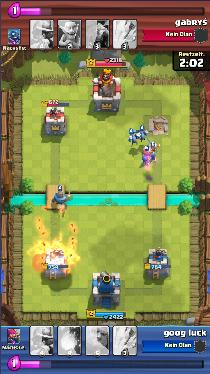ally_knight: (50, 191, 70, 205)
ally_minion: (137, 128, 148, 140), (128, 134, 139, 144)
ally_wallbreaker: (149, 143, 160, 161), (141, 148, 151, 162)
enemy_fireball: (32, 242, 76, 268)
